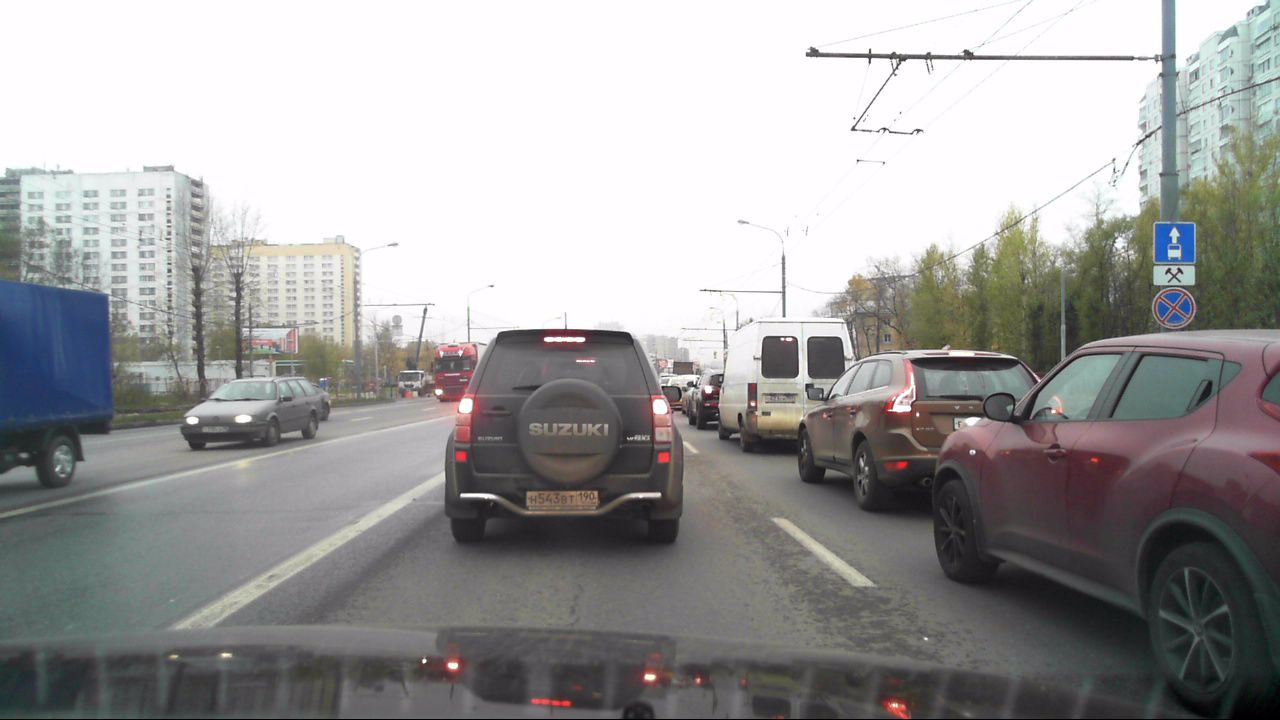No Parking: (1150, 287, 1196, 330)
